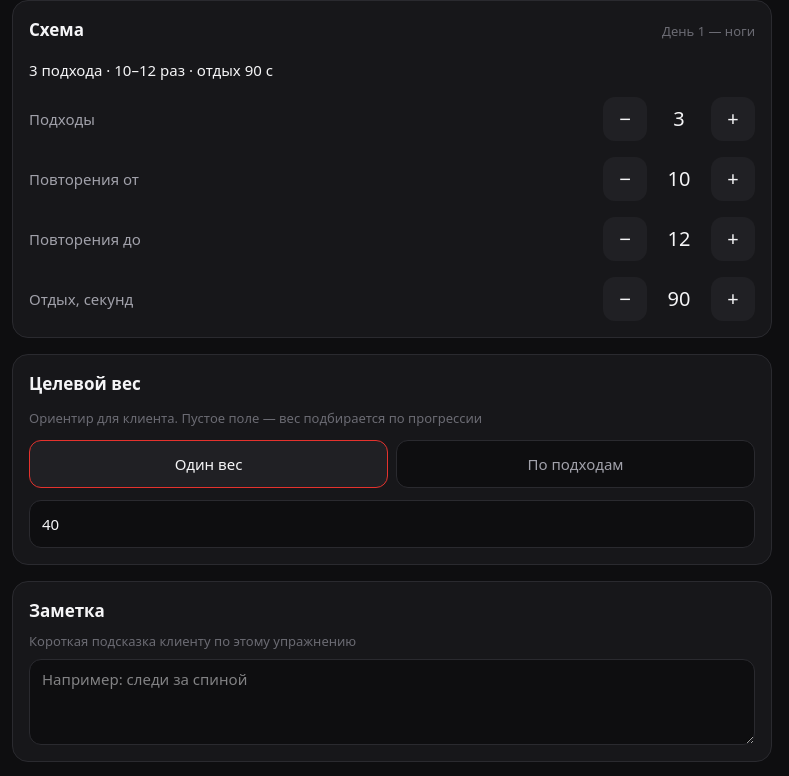
ошибка сервера показывается и тостом, и текстом
Click the button named "Подходы больше" at (733, 119), box [711,97,755,141]
(page scrolled)
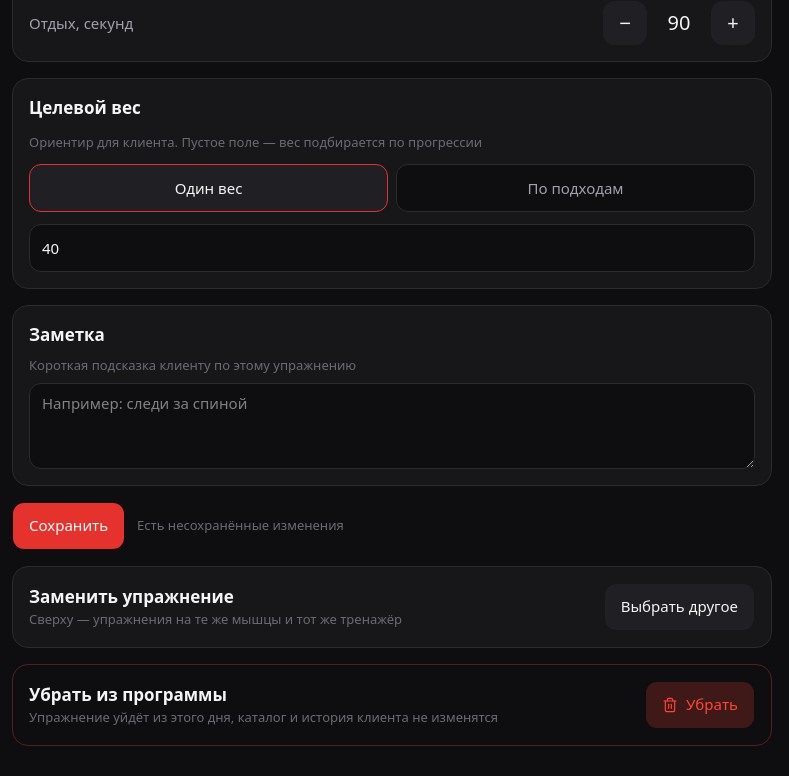
Click the button "Сохранить" at (69, 526), box [12,502,125,550]
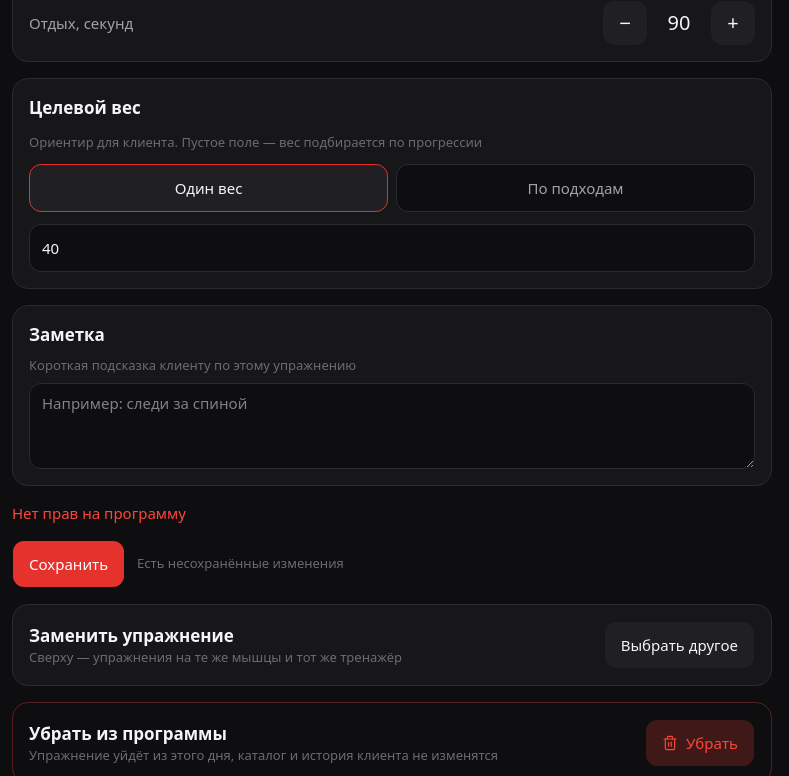
Expected: the message reads "Нет прав на программу", [12,502,186,522]
